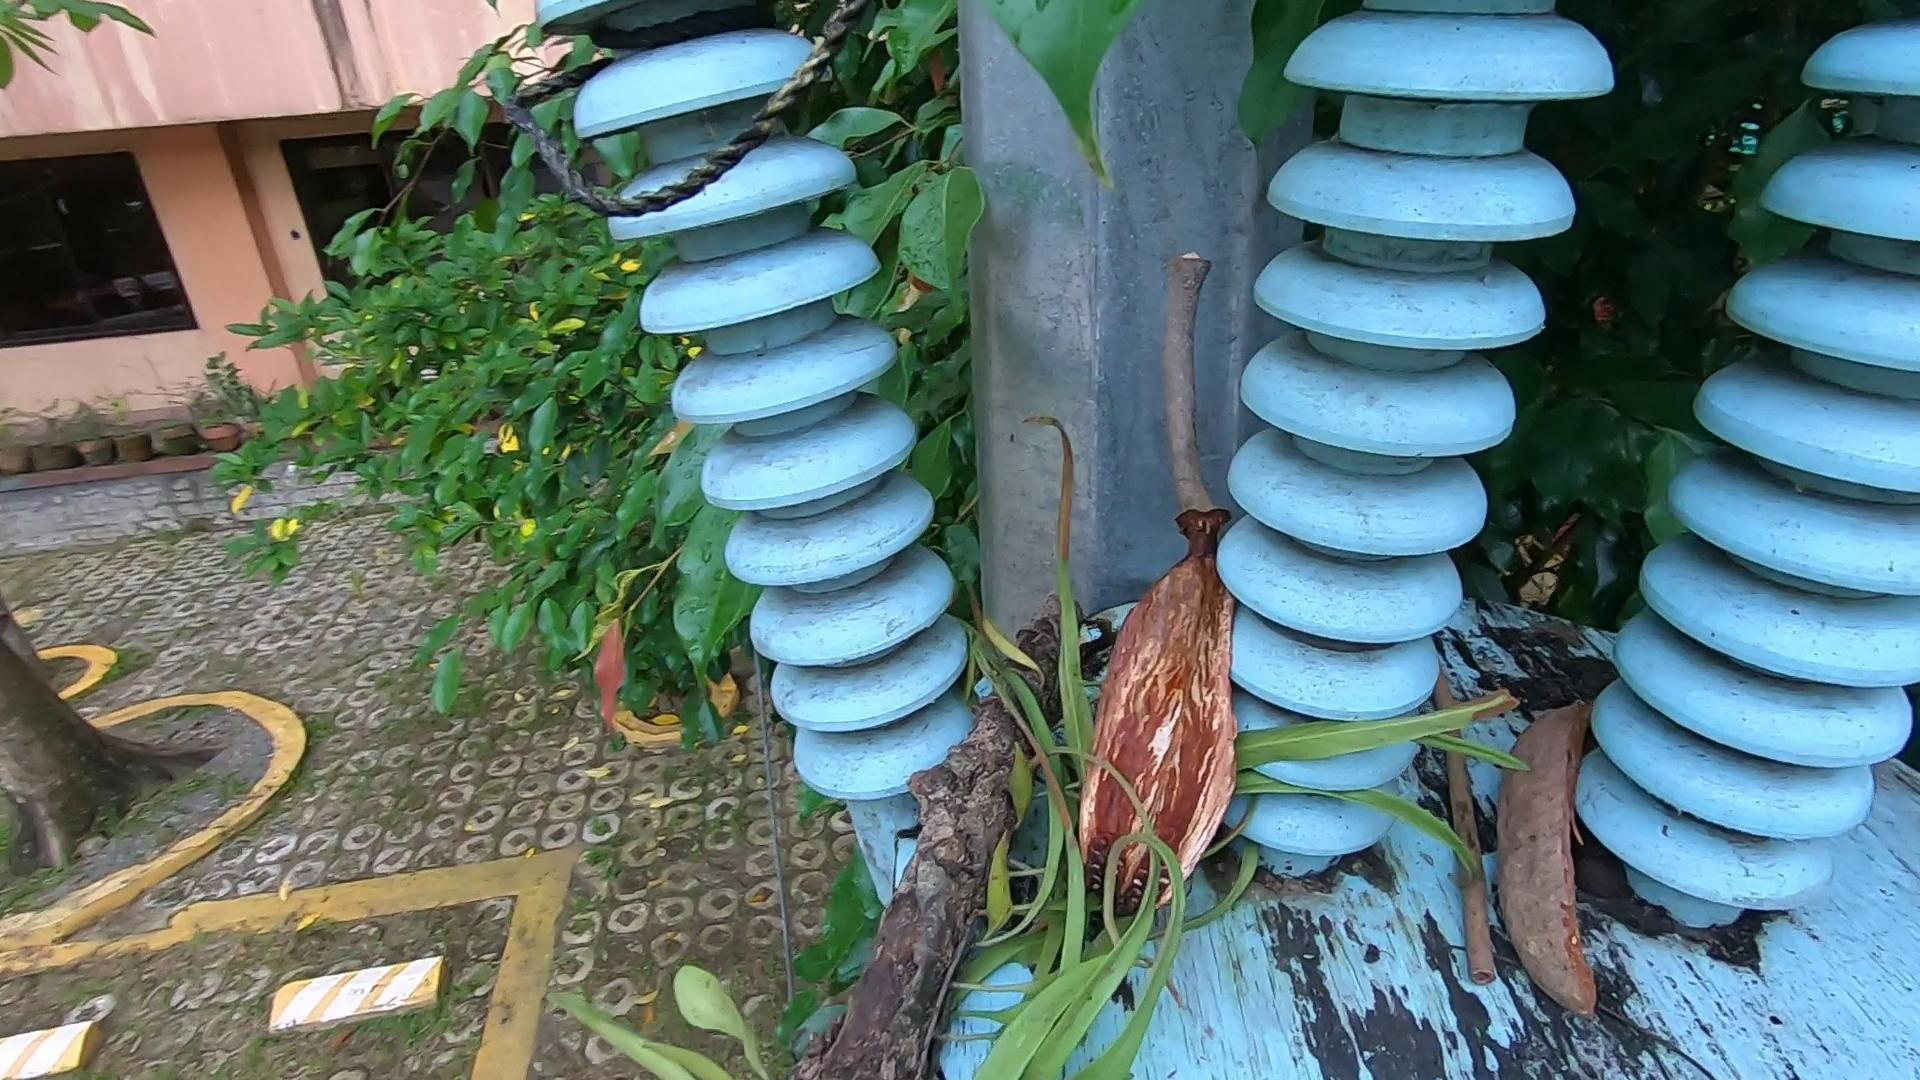branch with leaves: (551, 398, 1520, 1080)
mahogany fruit: (1083, 535, 1241, 944), (1484, 692, 1631, 1076)
tree branch: (1133, 233, 1273, 542), (1414, 661, 1535, 982)
